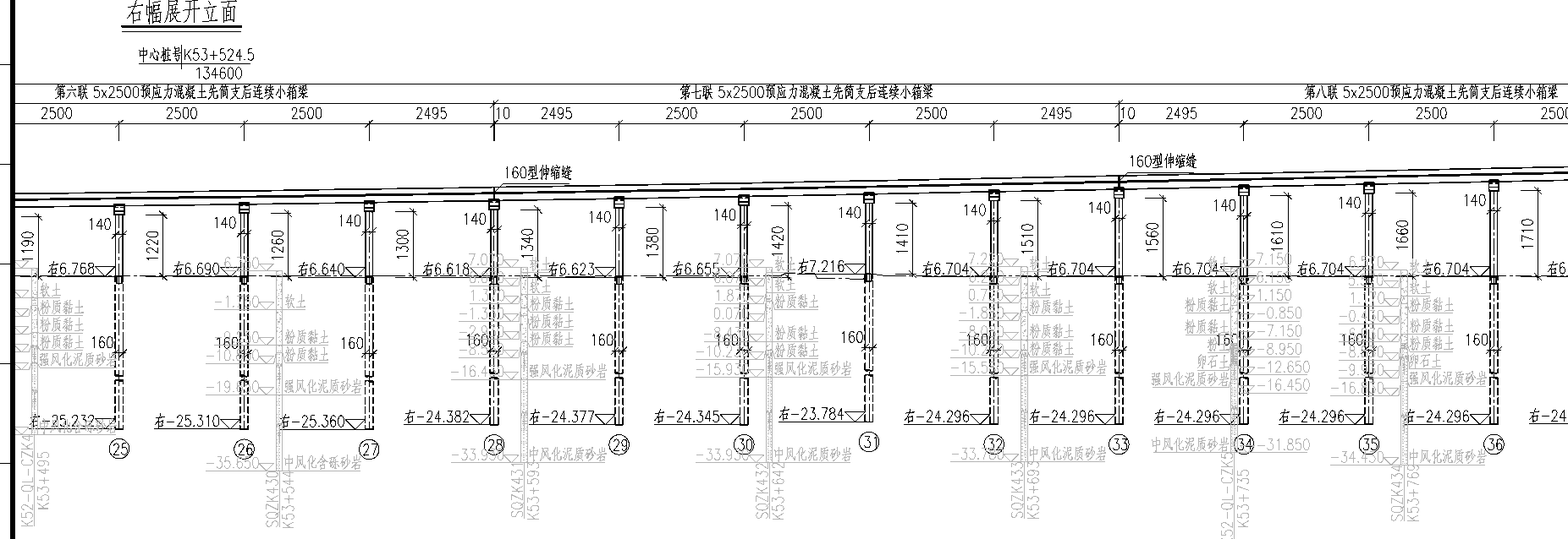B: (494, 78, 1131, 121), (1121, 74, 1565, 115)
C: (1164, 178, 1266, 460), (1288, 177, 1389, 459), (161, 194, 266, 464), (1038, 181, 1139, 460), (410, 192, 515, 459), (1417, 174, 1514, 460), (661, 188, 764, 457), (912, 183, 1012, 458), (788, 186, 889, 456), (289, 194, 389, 465), (540, 190, 638, 457), (42, 196, 138, 465)
